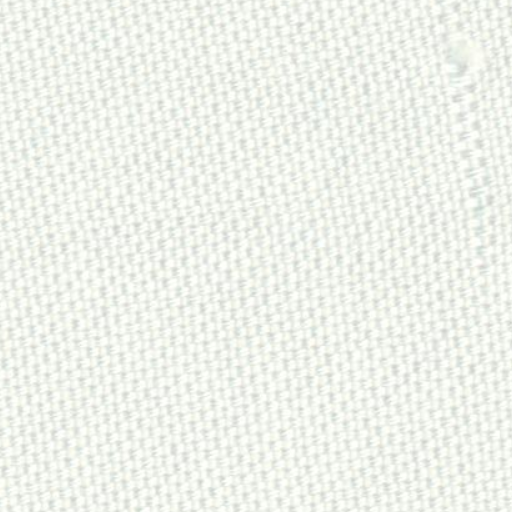PoDong: (428, 18, 493, 98)
